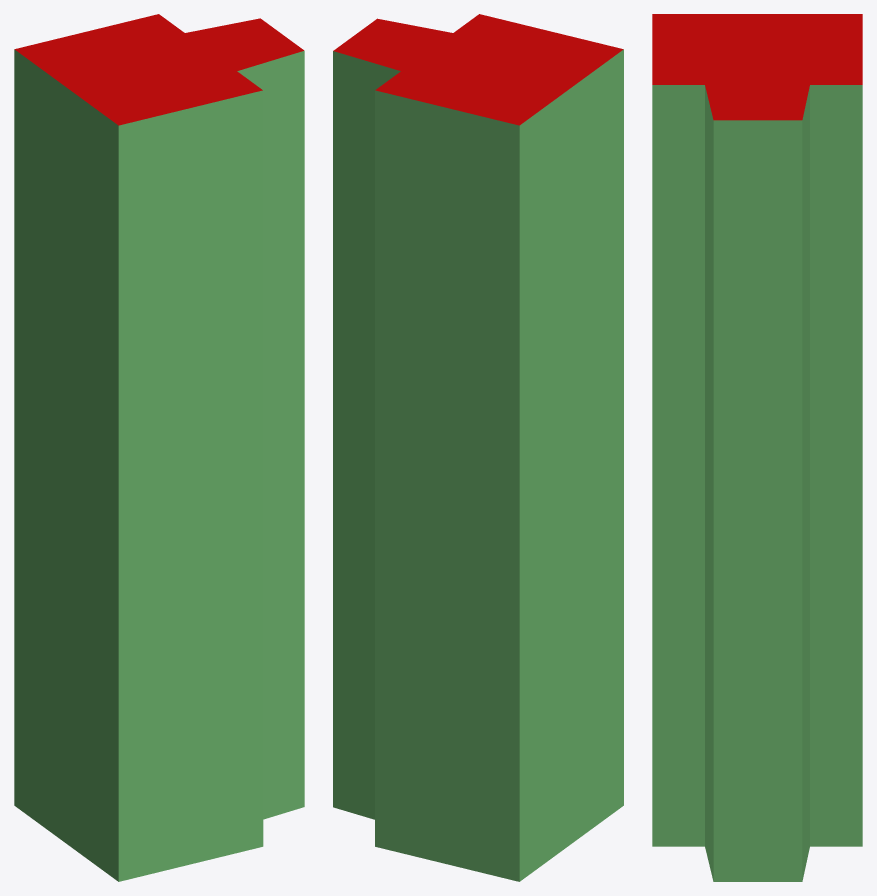
File: x_00_colonn_26_1.fbx
3 views of the same model, side by side, from view 1: azimuth 30°, elevation 25°; view 2: azimuth 150°, elevation 25°; view 3: azimuth 270°, elevation 25° (orthographic).
Parts seen in each view (by area): view 1: x_00_colonn_26_1_1; view 2: x_00_colonn_26_1_1; view 3: x_00_colonn_26_1_1.
Boxes of the visible parts, x1,y1,x2,y2 form: x_00_colonn_26_1_1: (14,14,304,881); x_00_colonn_26_1_1: (333,14,623,881); x_00_colonn_26_1_1: (652,14,862,881).
Size of the model in its own units: 1.2 by 4 by 1.
